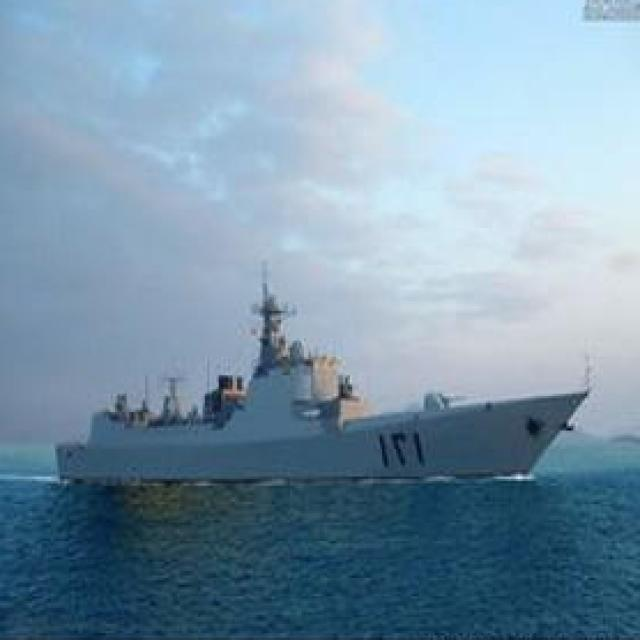navalvessels: (49, 260, 587, 517)
